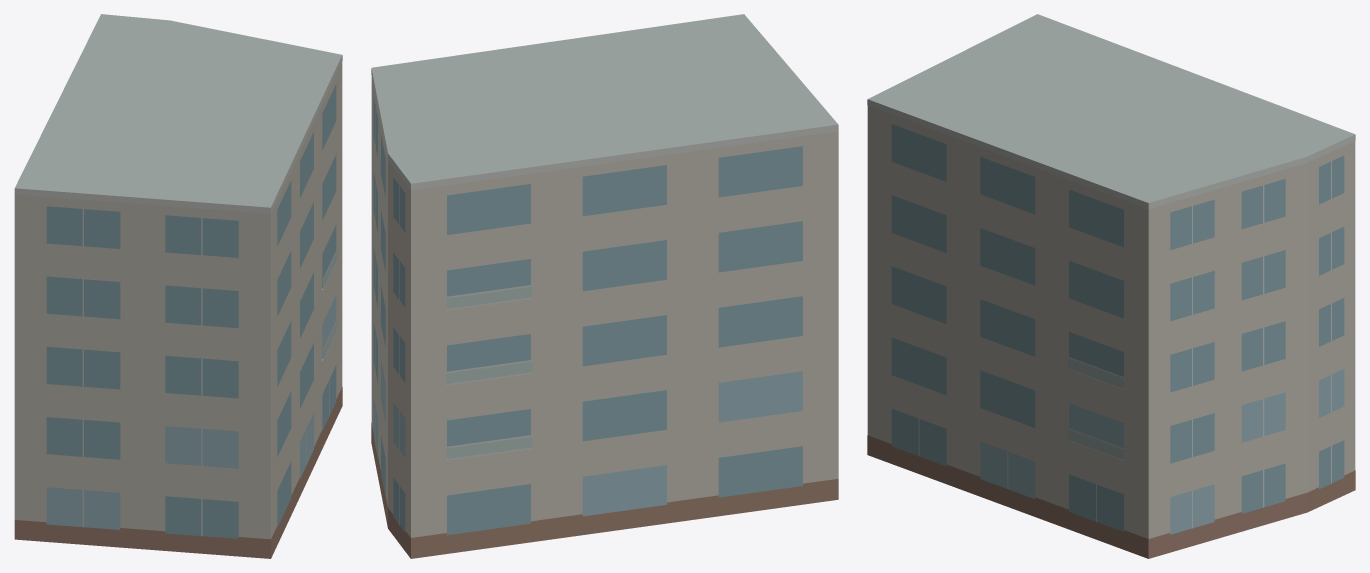
Rendered from survey-upis-32999641.glb.
3 renders of one model, left to right at view 1: azimuth 30°, elevation 25°; view 2: azimuth 150°, elevation 25°; view 3: azimuth 270°, elevation 25°, orthographic. The views are drawn at different scales.
Visible parts, largest first — view 1: survey-upis-32999641.tmp; view 2: survey-upis-32999641.tmp; view 3: survey-upis-32999641.tmp.
Part boxes in pixels (x1,y1,x2,y2): survey-upis-32999641.tmp: (14, 14, 342, 558); survey-upis-32999641.tmp: (371, 14, 838, 558); survey-upis-32999641.tmp: (867, 14, 1355, 558).
Bounding box in the file's own units: 15.85 × 13.9 × 17.29.
